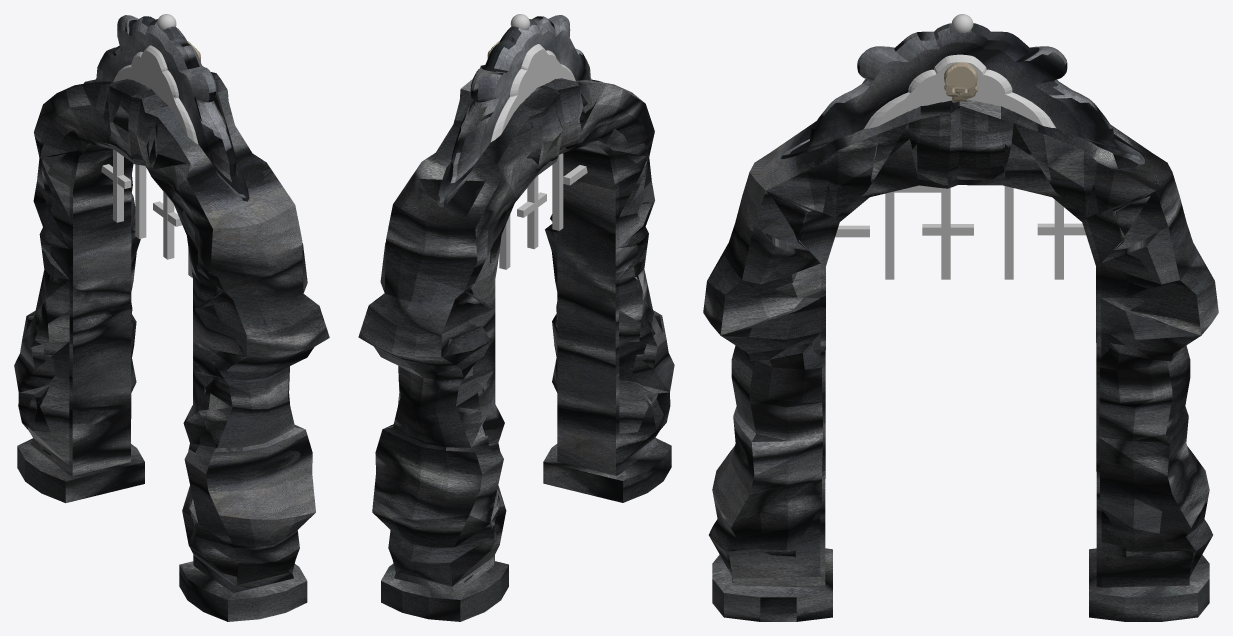
Rendered from Portal ReVamp unity.fbx.
3 renders of one model, left to right at view 1: azimuth 30°, elevation 25°; view 2: azimuth 150°, elevation 25°; view 3: azimuth 270°, elevation 25°, orthographic. The views are drawn at different scales.
Parts seen in each view (by area): view 1: Cube, Plane, Plane.001, Cube.007, Cube.006, Cube.008; view 2: Cube, Plane, Plane.001, Cube.005, Cube.008, Cube.007; view 3: Cube, Plane, Plane.001, Plane.003, Cube.007, Cube.008, Cube.005, Cube.006.
Part boxes in pixels (x1=…): Cube: x1=14, y1=72, x2=329, y2=621; Plane: x1=84, y1=15, x2=249, y2=201; Plane.001: x1=113, y1=45, x2=198, y2=143; Cube.007: x1=135, y1=164, x2=146, y2=238; Cube.006: x1=113, y1=149, x2=123, y2=222; Cube.008: x1=163, y1=191, x2=174, y2=259; Cube: x1=358, y1=65, x2=674, y2=621; Plane: x1=437, y1=15, x2=602, y2=206; Plane.001: x1=491, y1=44, x2=575, y2=141; Cube.005: x1=552, y1=153, x2=563, y2=230; Cube.008: x1=527, y1=175, x2=538, y2=249; Cube.007: x1=499, y1=214, x2=510, y2=269; Cube: x1=703, y1=99, x2=1218, y2=621; Plane: x1=780, y1=23, x2=1144, y2=164; Plane.001: x1=864, y1=54, x2=1055, y2=128; Plane.003: x1=944, y1=62, x2=977, y2=102; Cube.007: x1=1004, y1=186, x2=1013, y2=279; Cube.008: x1=941, y1=188, x2=950, y2=279; Cube.005: x1=885, y1=191, x2=894, y2=279; Cube.006: x1=1054, y1=199, x2=1063, y2=279.
Bounding box in the file's own units: 62.95 × 269 × 215.
